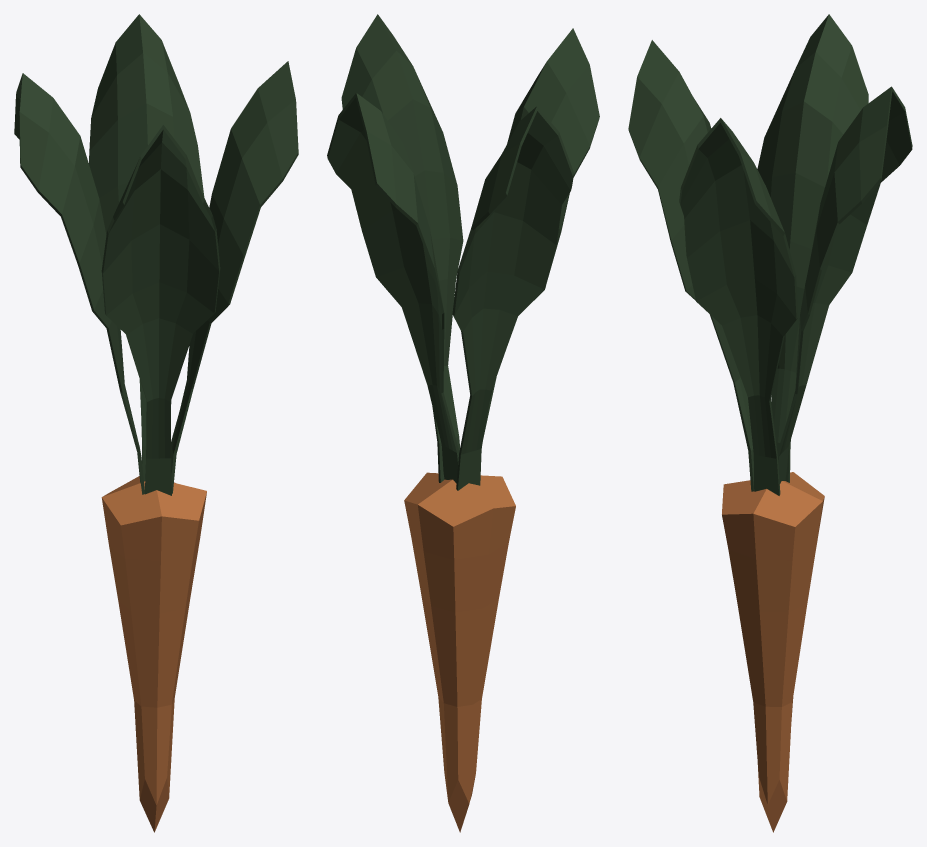
File: Carrot.glb
3 views of the same model, side by side, from view 1: azimuth 30°, elevation 25°; view 2: azimuth 150°, elevation 25°; view 3: azimuth 270°, elevation 25° (orthographic).
Visible parts, largest first — view 1: Carrot; view 2: Carrot; view 3: Carrot.
Boxes of the visible parts, <box> form: Carrot: <box>14,14,298,832</box>; Carrot: <box>327,14,599,832</box>; Carrot: <box>628,14,912,832</box>.
Size of the model in its own units: 0.1151 by 0.3379 by 0.1133.
